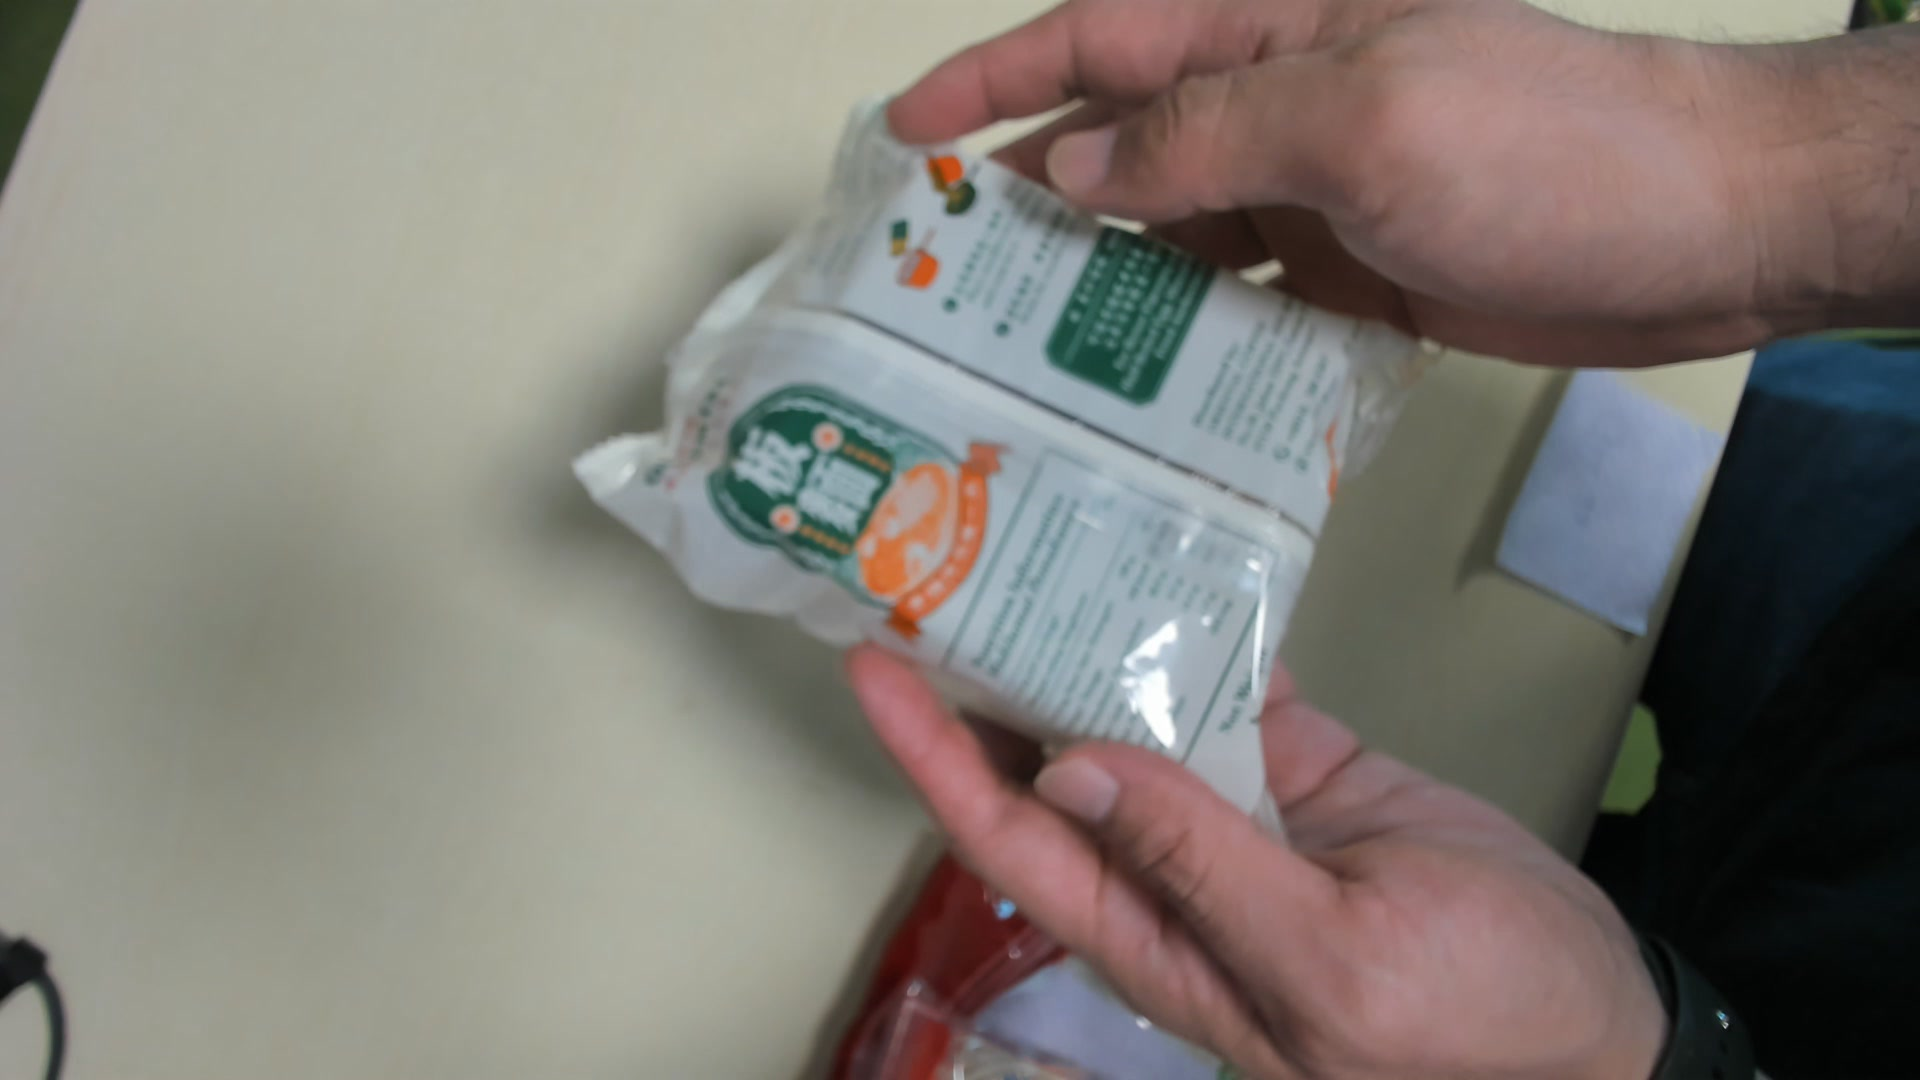BeeHoonVermicelli_100-199g_NonHalal_NonHealthy: (603, 138, 1393, 793)
